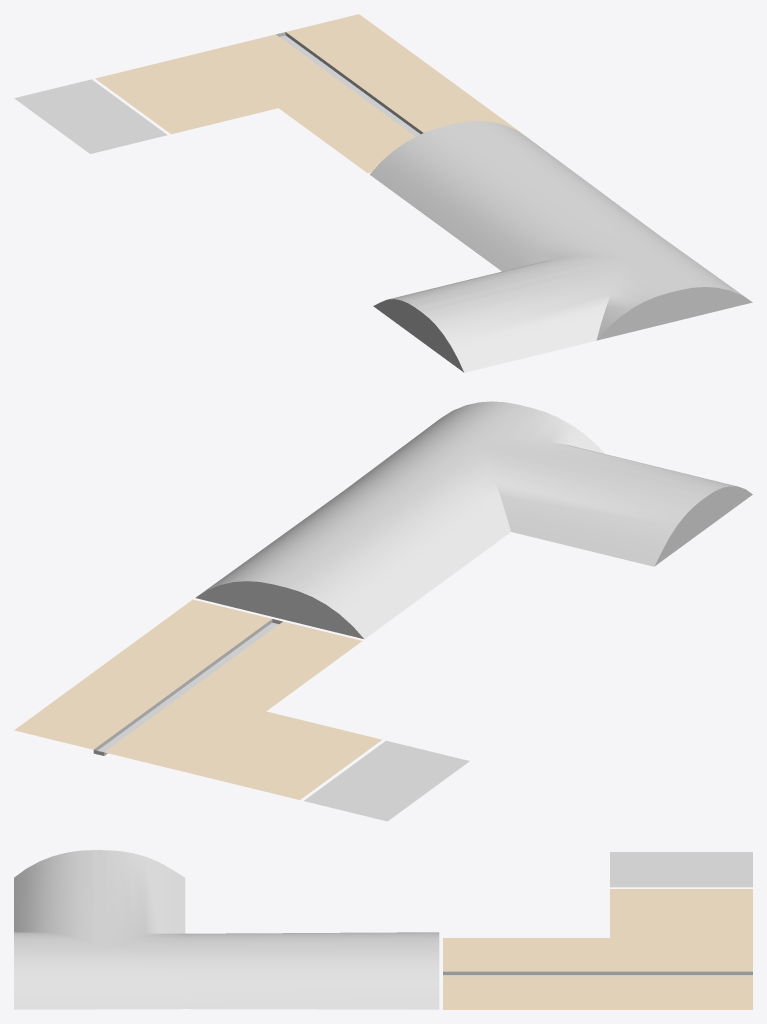
Rendered from Roofs.fbx.
3 views of the same model, one above another, from view 1: azimuth 30°, elevation 25°; view 2: azimuth 150°, elevation 25°; view 3: azimuth 270°, elevation 25° (orthographic). The views are drawn at different scales.
Visible parts, largest first — view 1: R02_Roof, R01_Roof, R00_Roof; view 2: R02_Roof, R01_Roof, R00_Roof; view 3: R02_Roof, R01_Roof, R00_Roof.
Boxes of the visible parts, x1,y1,x2,y2 form: R02_Roof: (370,121,752,372); R01_Roof: (95,14,523,173); R00_Roof: (14,79,167,153); R02_Roof: (195,401,752,639); R01_Roof: (14,599,381,799); R00_Roof: (304,740,469,821); R02_Roof: (14,850,439,1009); R01_Roof: (443,889,752,1009); R00_Roof: (610,852,752,887).
Bounding box in the file's own units: 2090 × 195 × 4132.
